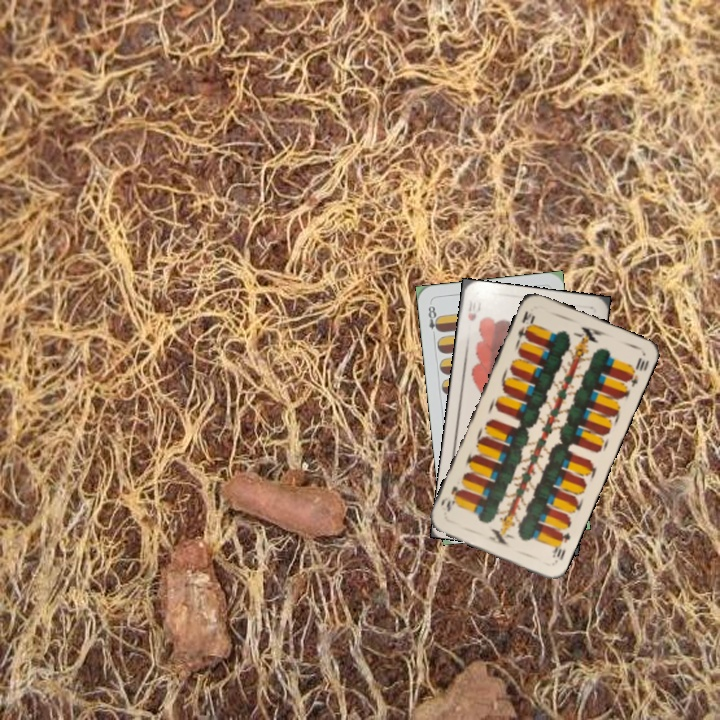E10: (513, 307, 538, 346), (548, 528, 573, 563)
E8: (424, 301, 443, 340)
H10: (464, 296, 479, 323)
